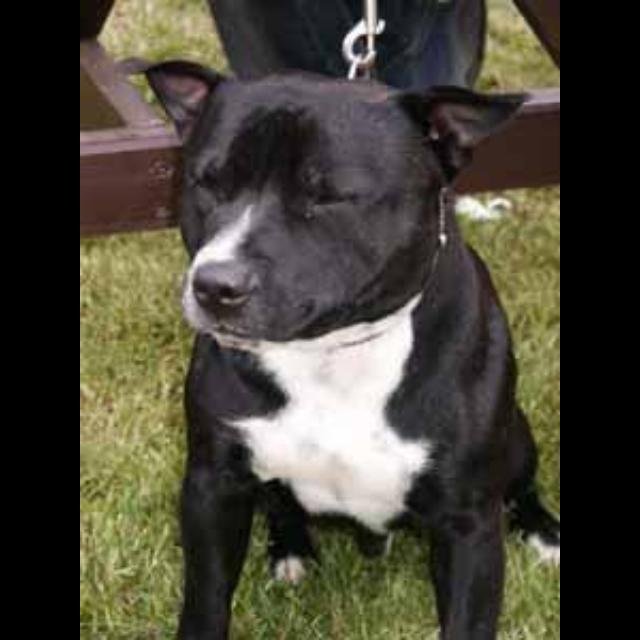staffford: (137, 57, 559, 639)
